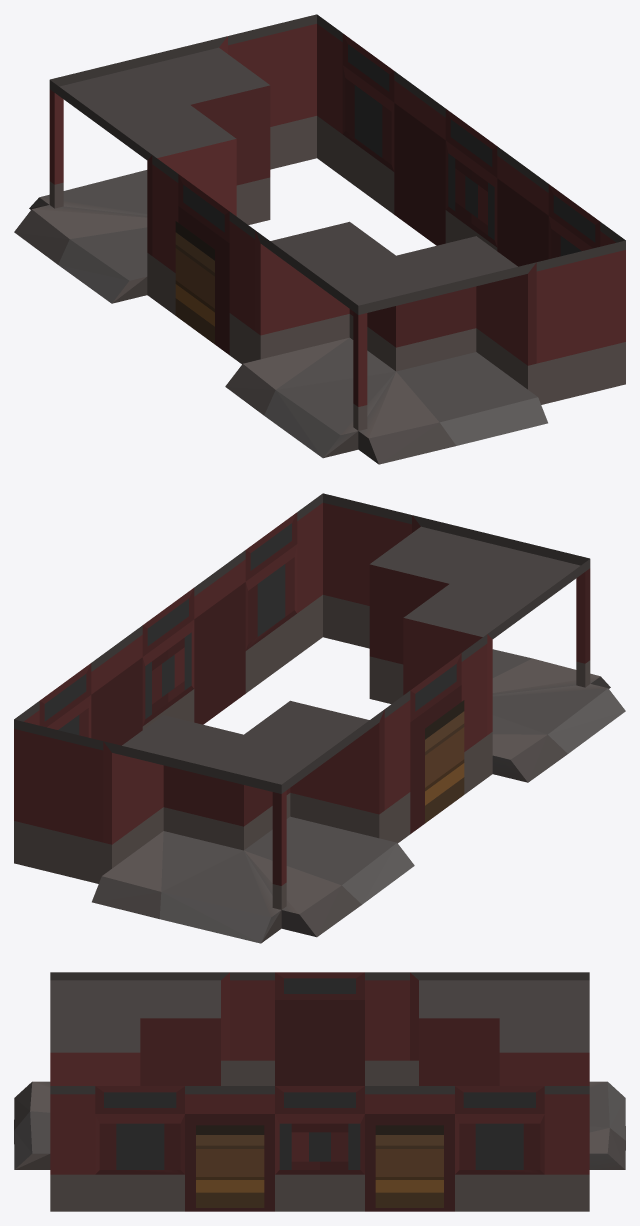
Rendered from BuildingA-Ext_BLOD2.fbx.
3 views of the same model, one above another, from view 1: azimuth 30°, elevation 25°; view 2: azimuth 150°, elevation 25°; view 3: azimuth 270°, elevation 25° (orthographic). The views are drawn at different scales.
Visible parts, largest first — view 1: BuildingA-Ext_BLOD2; view 2: BuildingA-Ext_BLOD2; view 3: BuildingA-Ext_BLOD2.
Part boxes in pixels (left/top/right/bottom): BuildingA-Ext_BLOD2: left=14, top=14, right=625, bottom=464; BuildingA-Ext_BLOD2: left=14, top=493, right=625, bottom=943; BuildingA-Ext_BLOD2: left=14, top=972, right=625, bottom=1211.
Size of the model in its own units: 875 by 386 by 1702.
